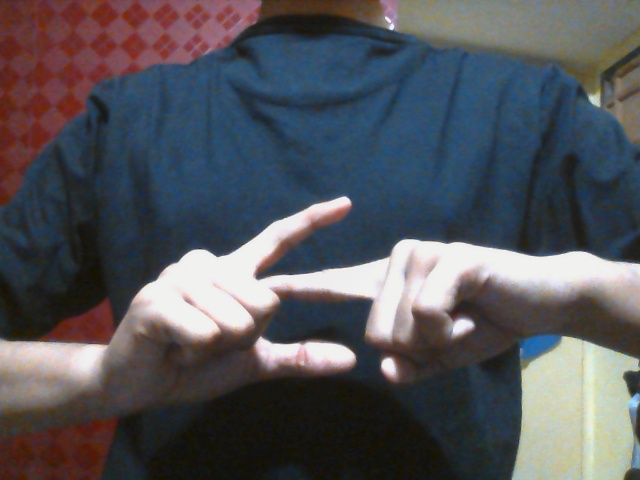E: (134, 195, 515, 404)
